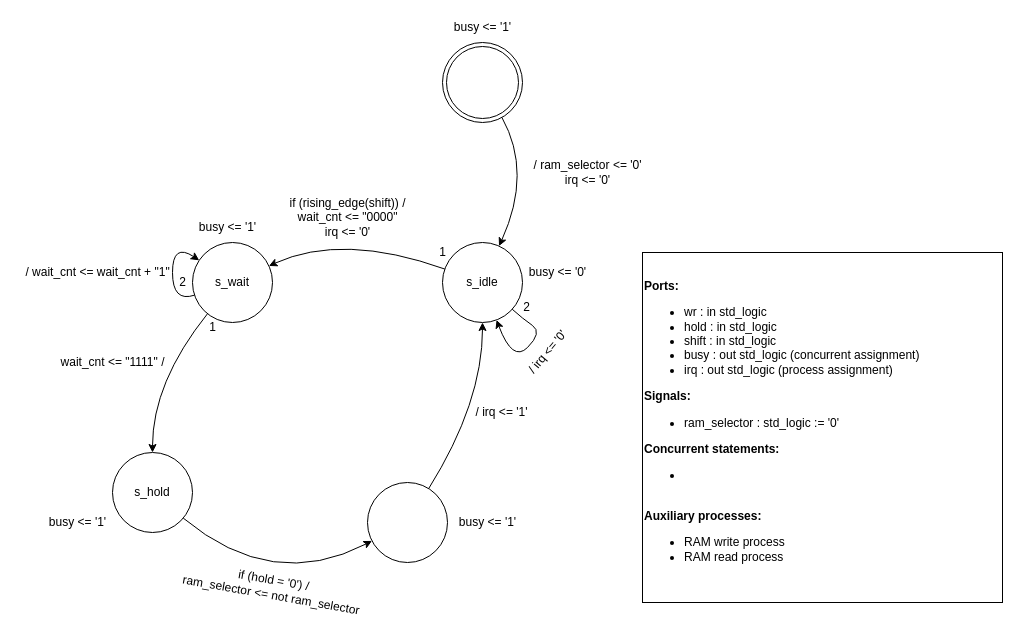
This 1020x636 diagram has some shape labels left out. The box of each missing label's shape, as (x1, y1, x2, y2) in pixels:
s_rst: (442, 42, 522, 122)
s_shift: (366, 482, 448, 562)
